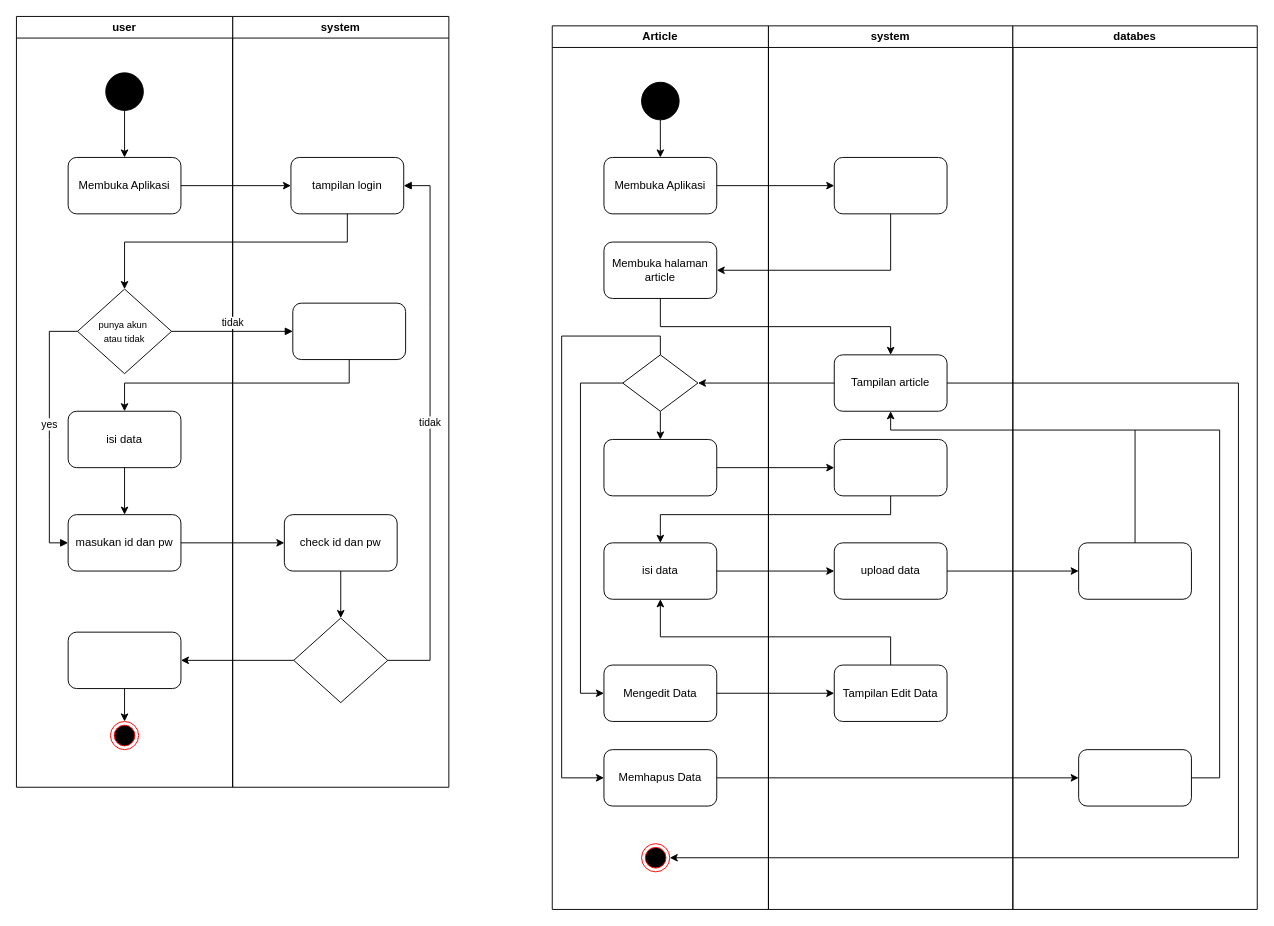
The diagram is 1274 pixels wide and 926 high, and some of its shapes have lost their labels. Each missing label, with the centre of its shape:
click Tambah Data: the point at 660,467
dashboard: the point at 124,660
Memilih: the point at 660,382
menghapus data: the point at 1134,777
menyimpan data: the point at 1134,570
registrasi akun: the point at 349,331
sukses: the point at 340,660
Tampilan dashboard: the point at 890,185
Tampilan Tambah Data: the point at 890,467
